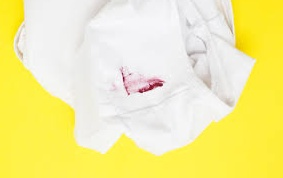lipstick: (120, 65, 165, 98)
